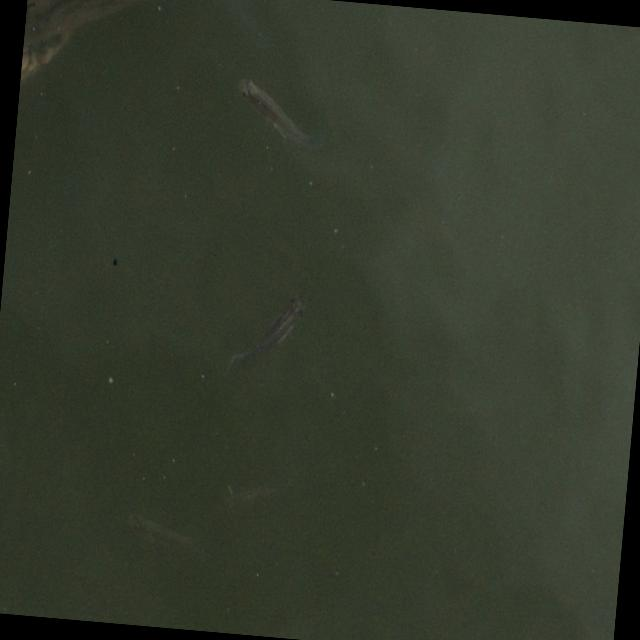Sivrisinek Baligi: (223, 292, 305, 393), (236, 75, 326, 154)
